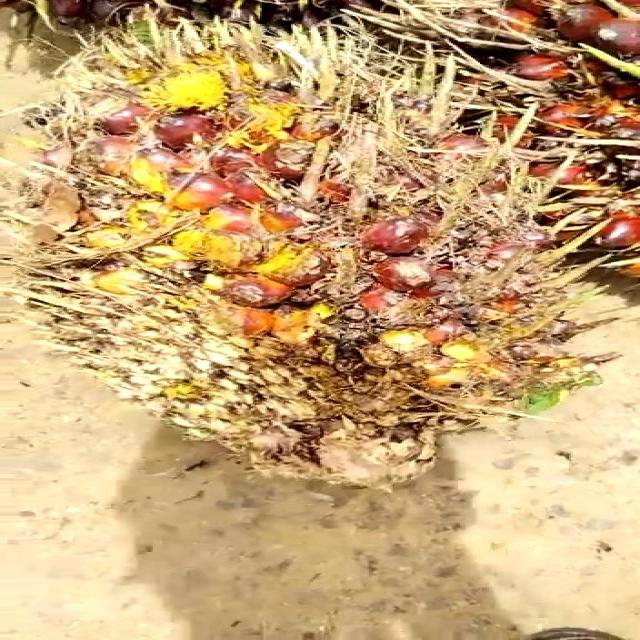palm oil: (19, 14, 626, 504)
